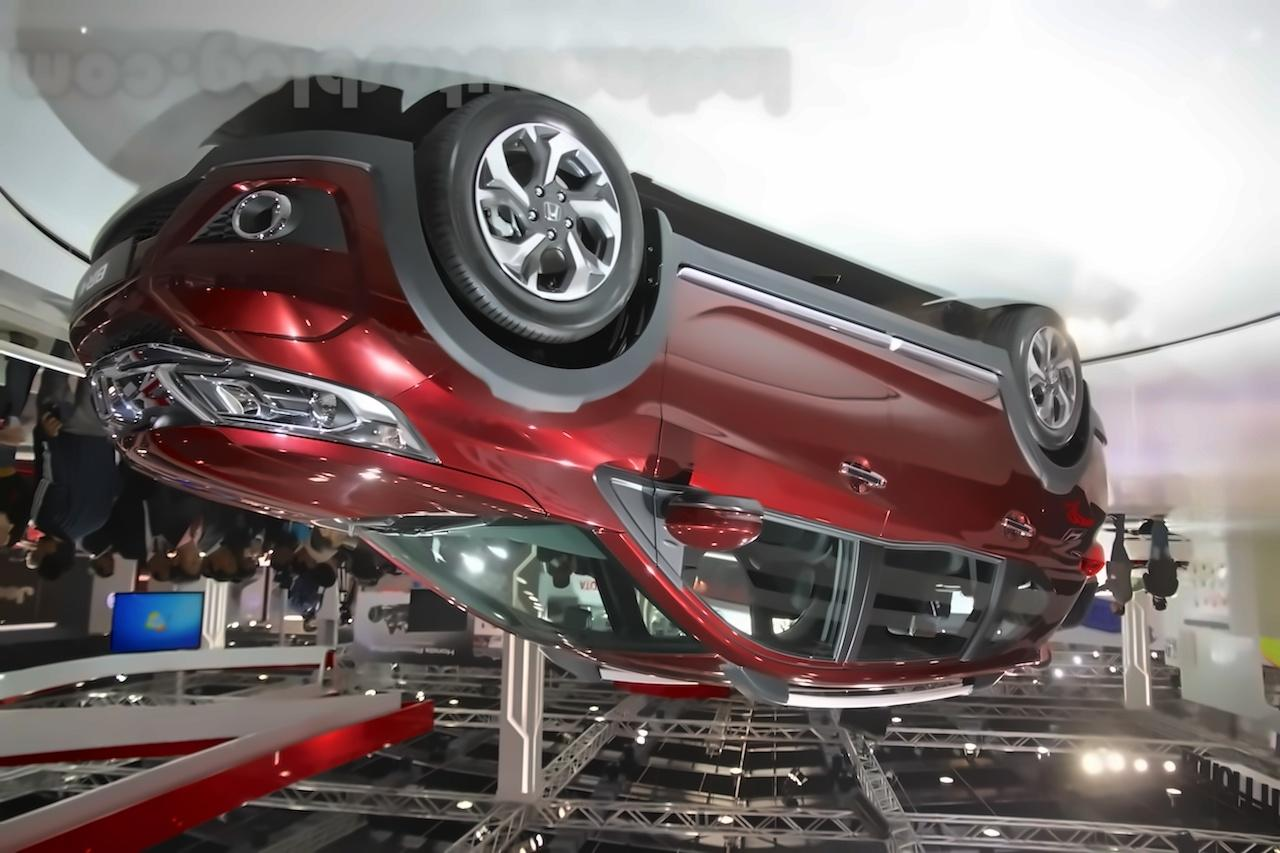Car hood: (27, 109, 404, 351)
Driver-s door - -F-R-: (655, 250, 882, 697)
Fender - -F-R-: (391, 200, 674, 536)
Fender - -R-R-: (1027, 447, 1100, 591)
Headlight - -R-: (170, 352, 450, 470)
Passenger-s door - -R-R-: (885, 344, 1052, 685)
Rear bumper: (1075, 372, 1126, 485)
Rear light - -R-: (1067, 529, 1127, 586)
Side bumper - -R-: (642, 200, 1016, 397)
Side mirror - -R-: (109, 417, 556, 544), (655, 482, 782, 554)
